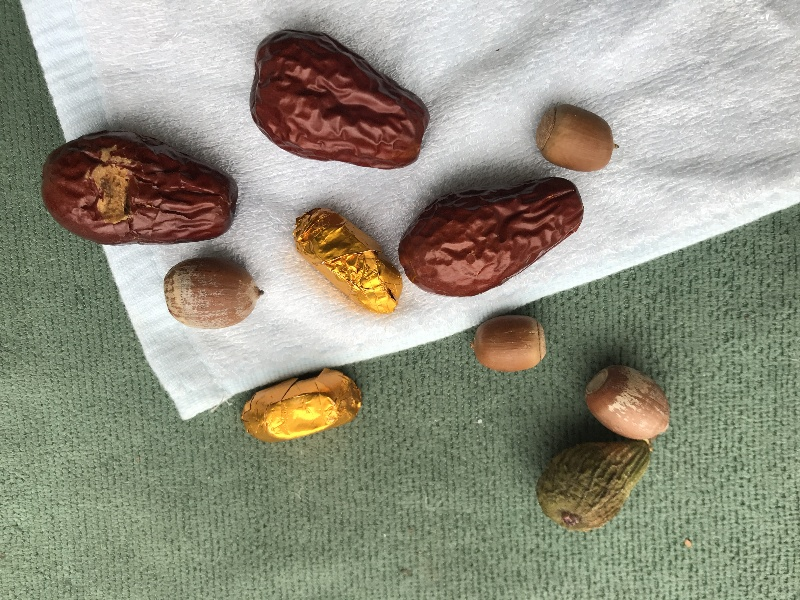date: (248, 30, 431, 170), (40, 128, 238, 246), (398, 175, 587, 298)
fig: (538, 441, 653, 532)
hazelnut: (163, 258, 269, 330), (583, 365, 675, 438), (532, 103, 623, 174), (471, 315, 549, 372)
